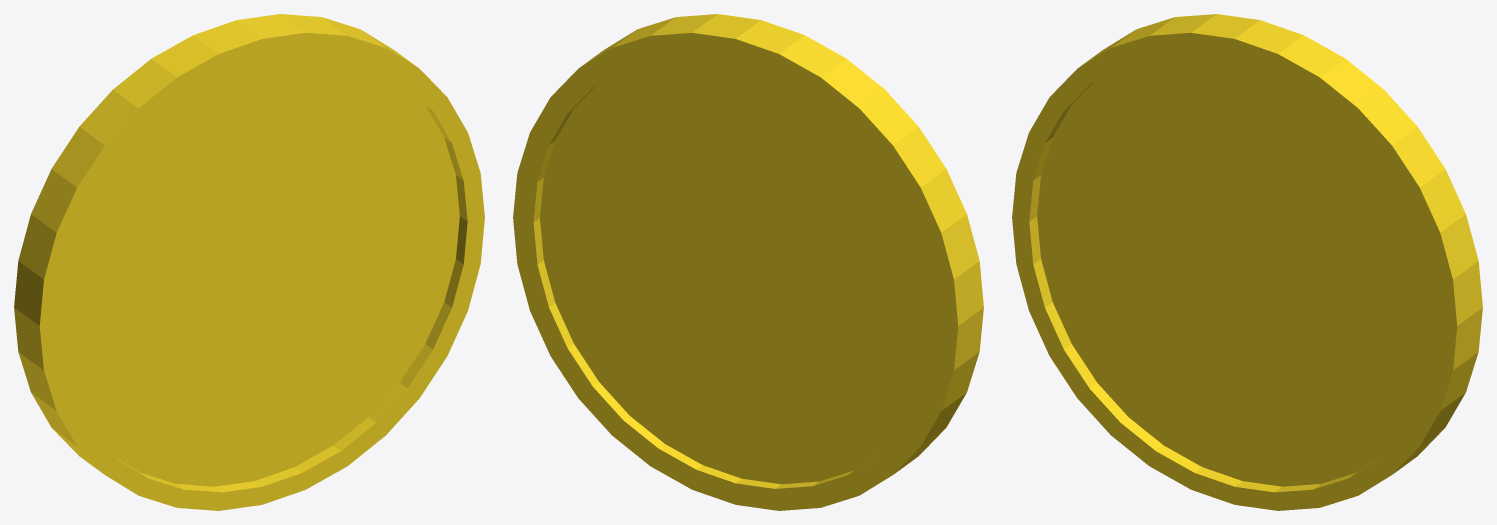
File: Coin.fbx
3 views of the same model, side by side, from view 1: azimuth 30°, elevation 25°; view 2: azimuth 150°, elevation 25°; view 3: azimuth 330°, elevation 25° (orthographic).
Parts seen in each view (by area): view 1: Cylinder; view 2: Cylinder; view 3: Cylinder.
Boxes of the visible parts, bbox=[...] form: Cylinder: bbox=[14, 14, 484, 510]; Cylinder: bbox=[513, 14, 983, 510]; Cylinder: bbox=[1012, 14, 1482, 510].
Size of the model in its own units: 200 by 200 by 20.
